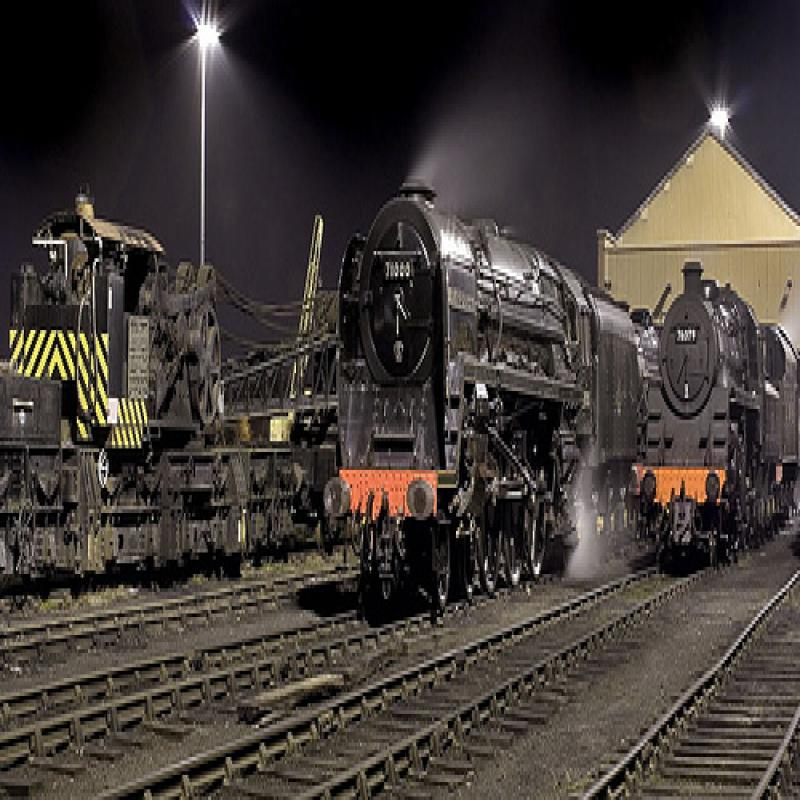train: (323, 180, 678, 604), (3, 195, 339, 600), (631, 267, 800, 565)
